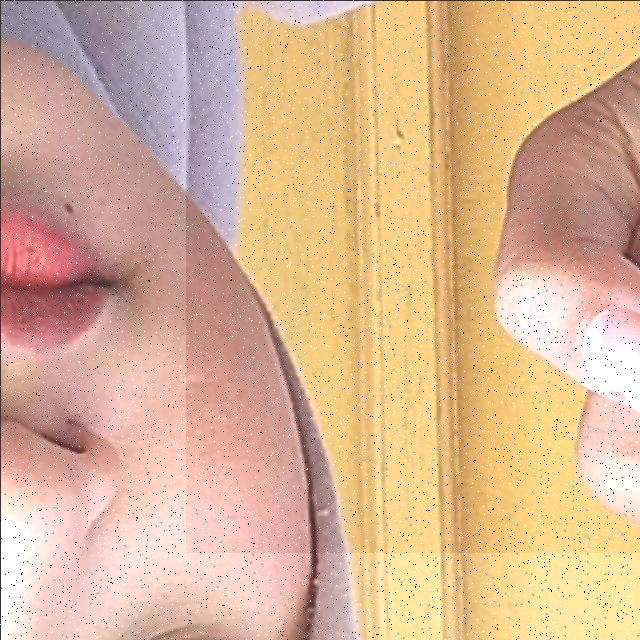baik: (185, 0, 640, 552)
